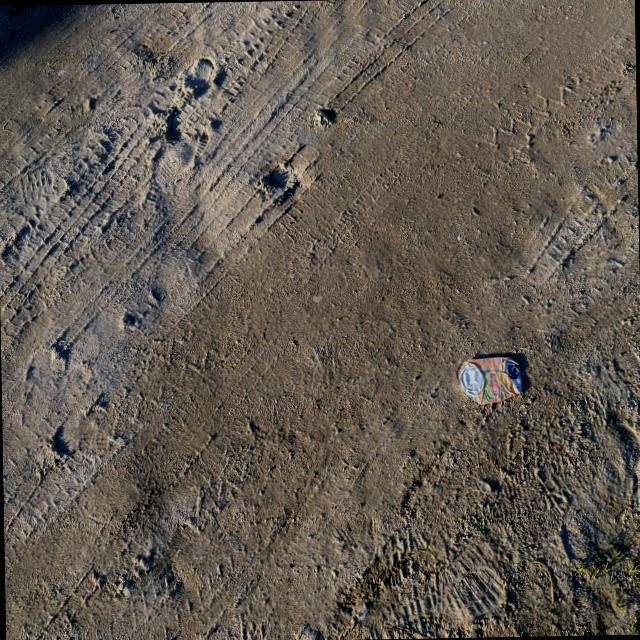Drink can: (459, 357, 521, 405)
Pop tab: (508, 365, 518, 379)
